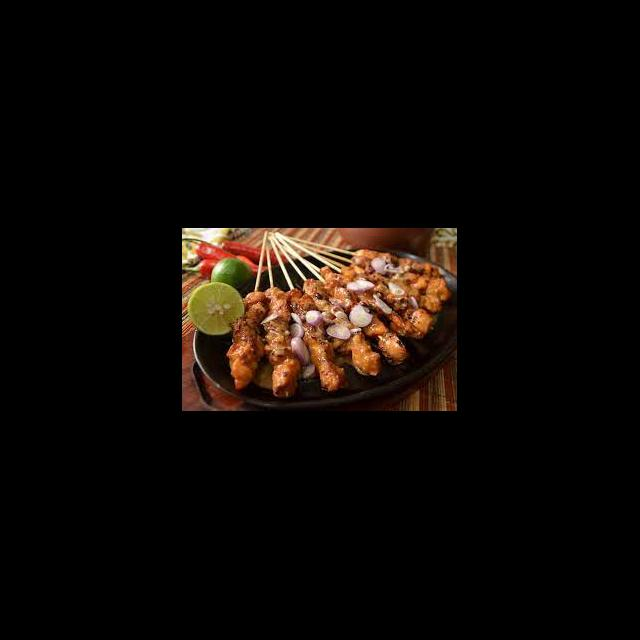food_waste: (258, 300, 394, 351)
